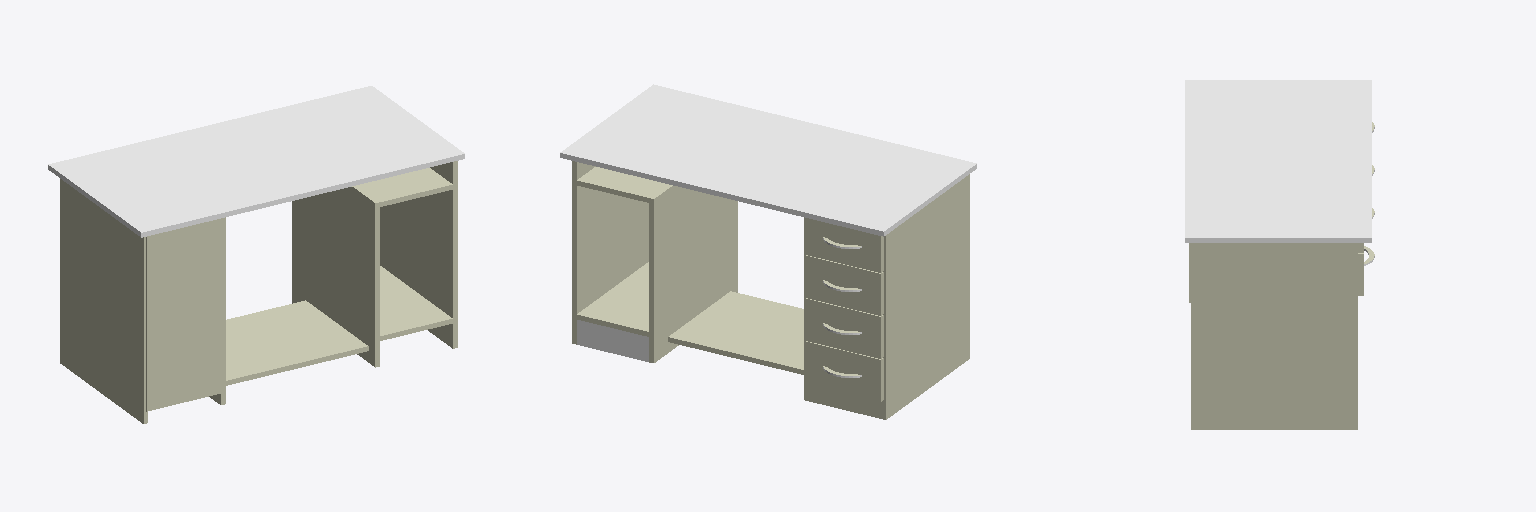
3 renders of one model, left to right at view 1: azimuth 30°, elevation 25°; view 2: azimuth 150°, elevation 25°; view 3: azimuth 270°, elevation 25°, orthographic.
Visible parts, largest first — view 1: model_normalized.002; view 2: model_normalized.002; view 3: model_normalized.002.
Boxes of the visible parts, box(x1,y1,x2,y2) form: model_normalized.002: box(48, 86, 464, 423); model_normalized.002: box(560, 84, 976, 419); model_normalized.002: box(1185, 80, 1374, 429).
Size of the model in its own units: 0.7938 by 0.4561 by 0.4022.